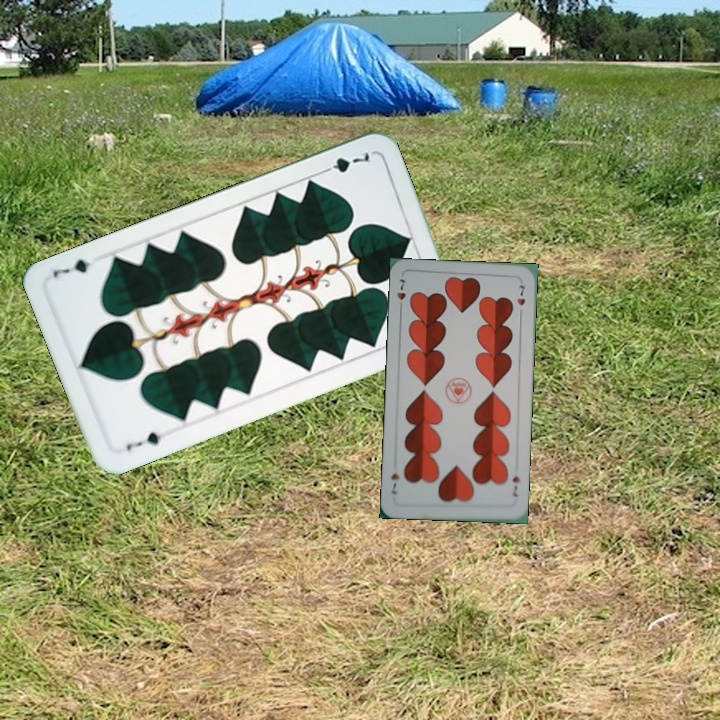G7: (316, 147, 374, 176), (122, 428, 172, 454)
H7: (393, 275, 408, 314), (508, 472, 523, 499)
